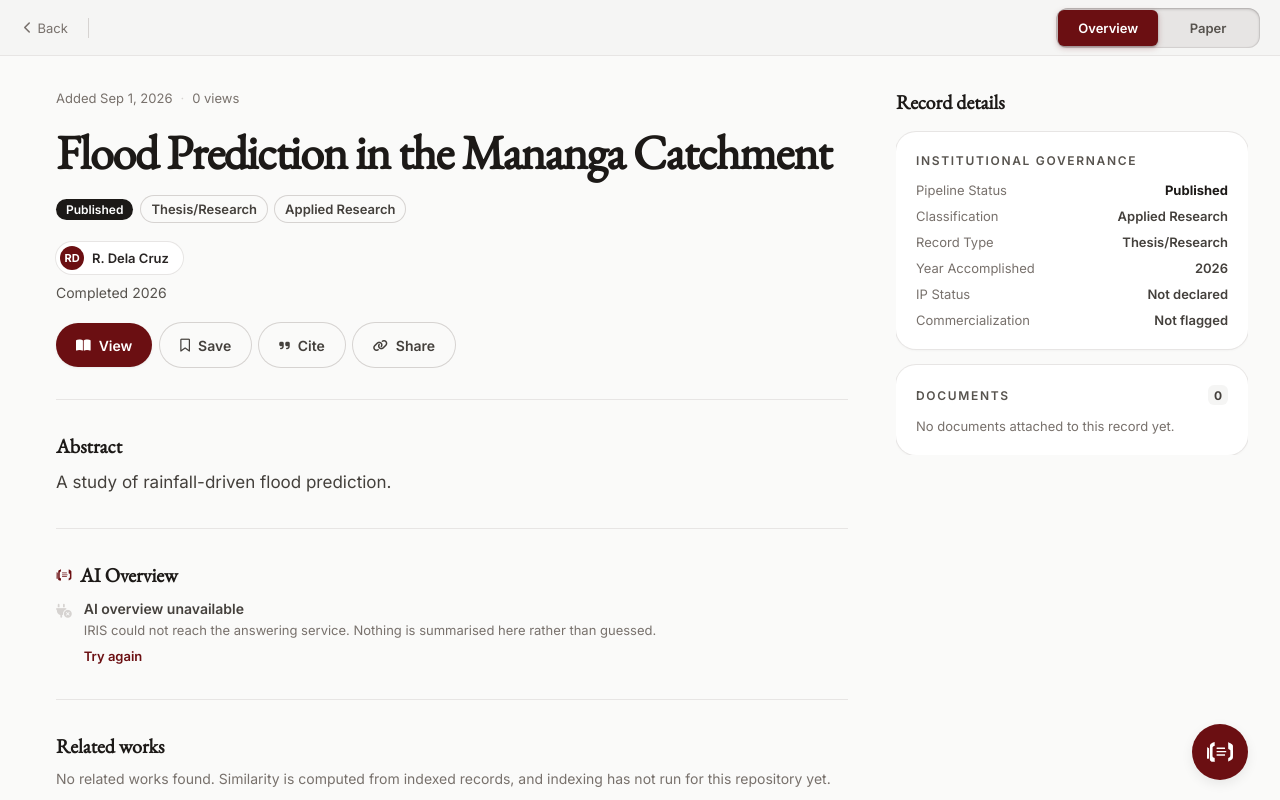
Test: Ask IRIS on Overview (IR-569) › folds Record details away while it is open, and brings them back when it closes (IR-569)
Expected: the heading "Flood Prediction in the Mananga Catchment" is shown, [56, 128, 848, 176]
Expected: the heading "Institutional Governance" is shown, [916, 153, 1137, 168]
Step 1. Click the button named "Ask IRIS" → (1220, 752), box [1192, 724, 1248, 780]
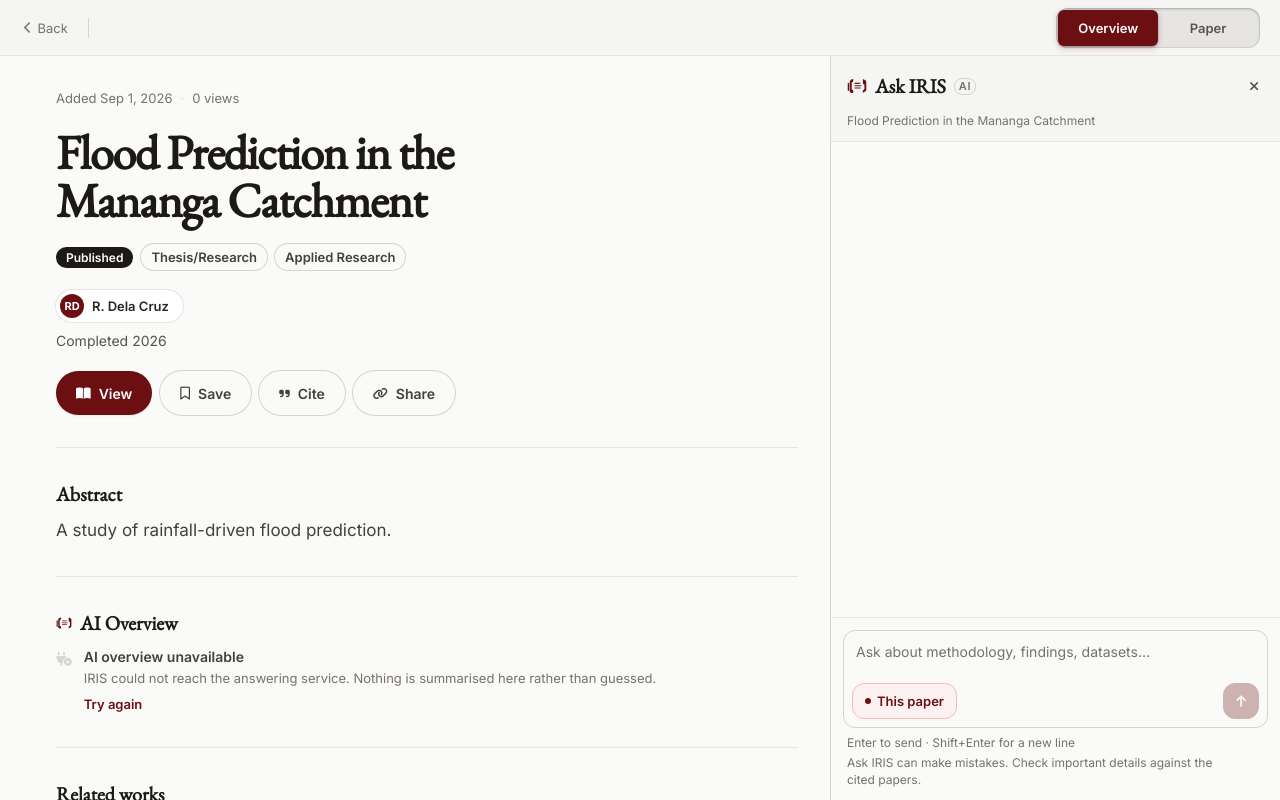
Expected: the element "Ask IRIS" is shown, [830, 56, 1279, 799]
Expected: the heading "Record details" is gone
Expected: the heading "Institutional Governance" is gone
Step 2. Click the button named "Close Ask IRIS" → (1254, 86), box [1236, 68, 1272, 104]
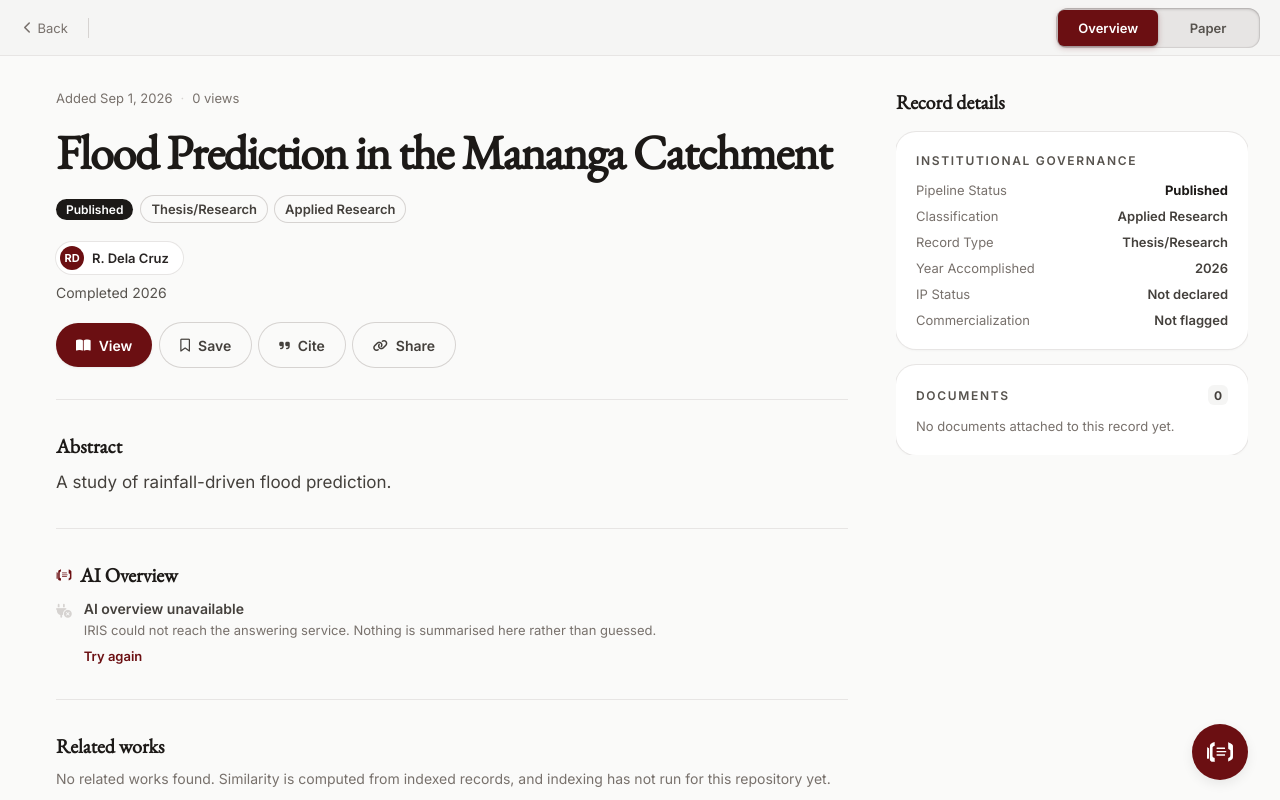
Expected: the element "Record details" is shown, [896, 88, 1248, 455]
Expected: the heading "Institutional Governance" is shown, [916, 153, 1137, 168]
